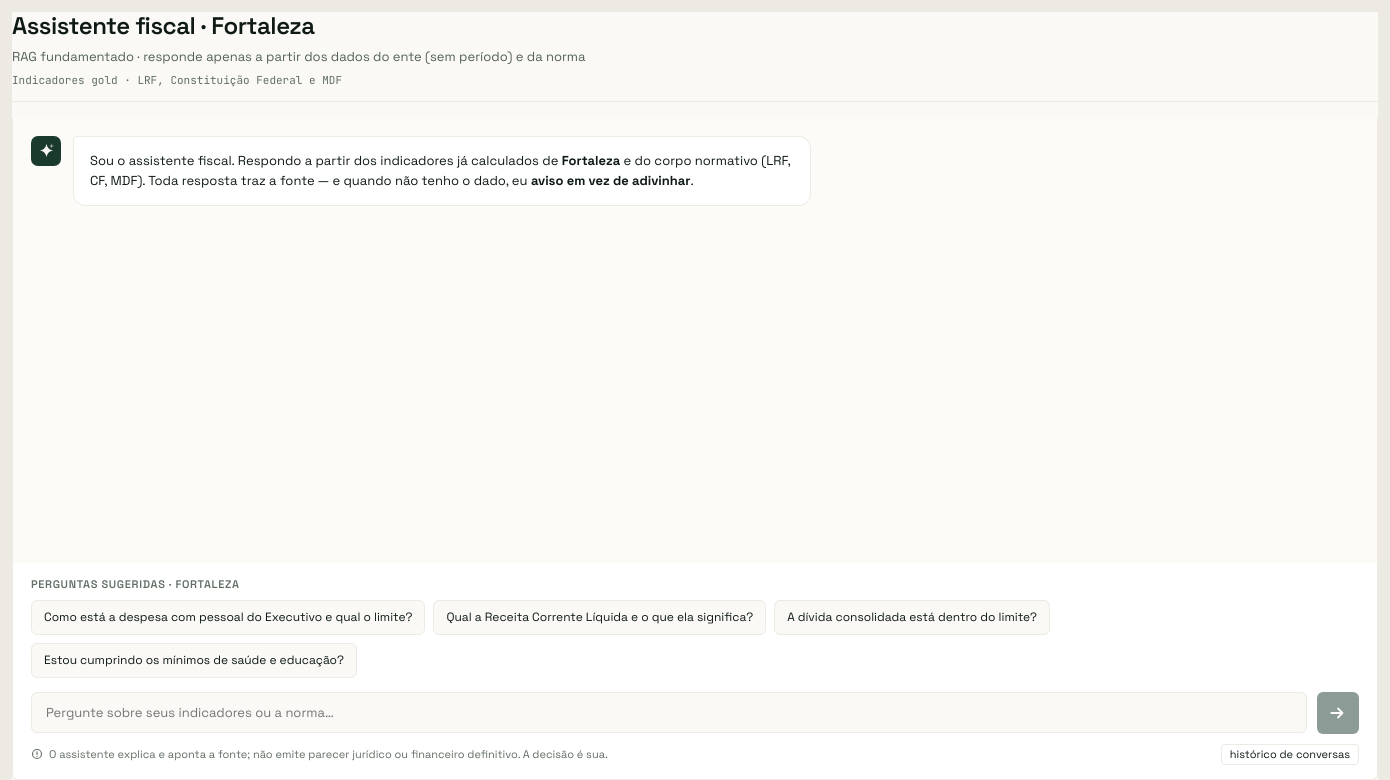
Assistente — dados incompletos e modo offline (Sprint B3) › avisa "modo offline (sem Gemini)" quando o provedor degrada para local-grounded
Click the button "Como está a despesa com pessoal do Executivo e qual o limite?".
click(228, 617)  # box [31,600,426,635]
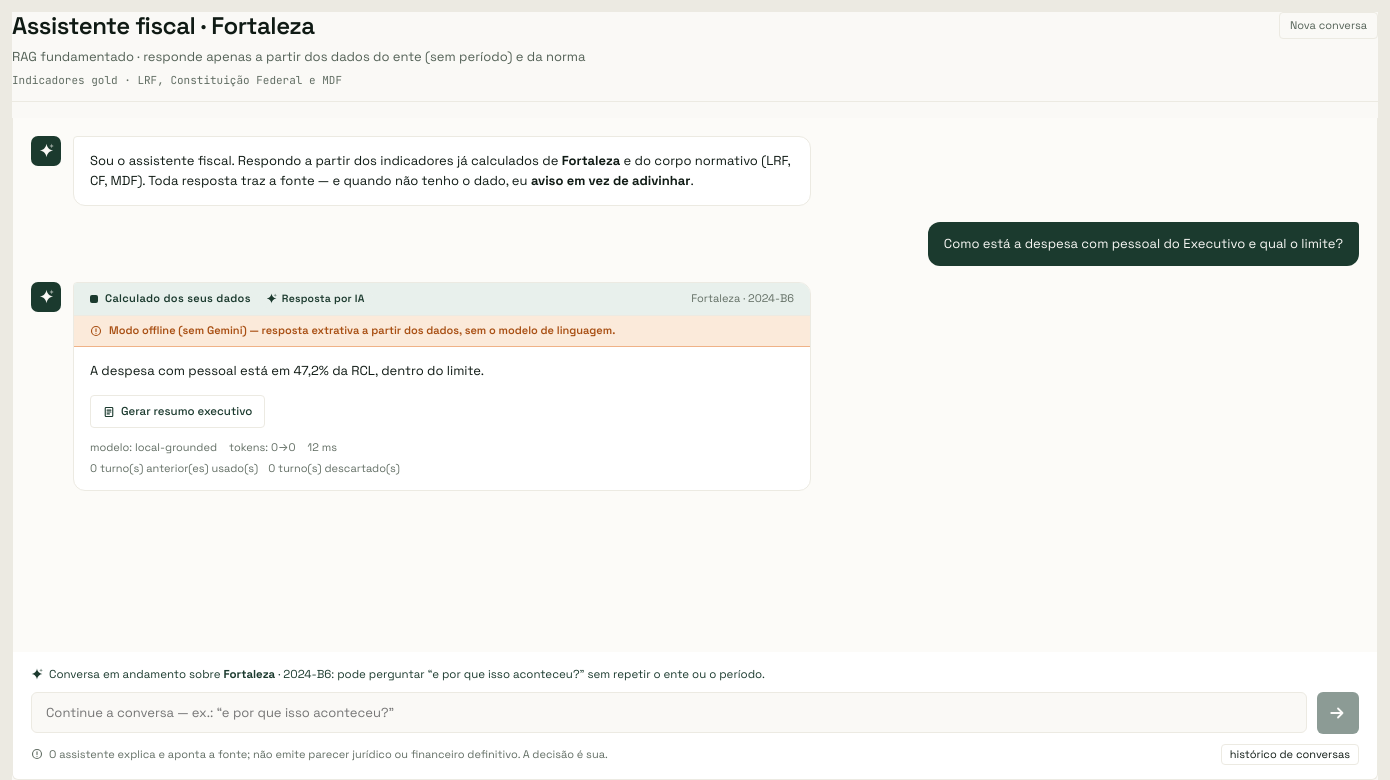
Expected: the text "Modo offline (sem Gemini)" is shown, [109,323,615,337]
